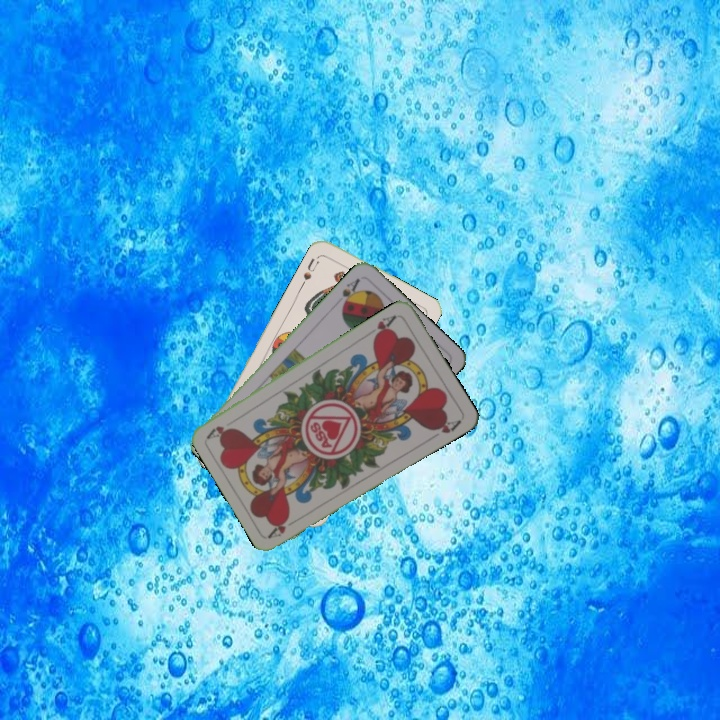HA: (265, 512, 303, 541), (369, 311, 399, 342)
SA: (338, 274, 363, 311)
SU: (299, 254, 322, 283)
